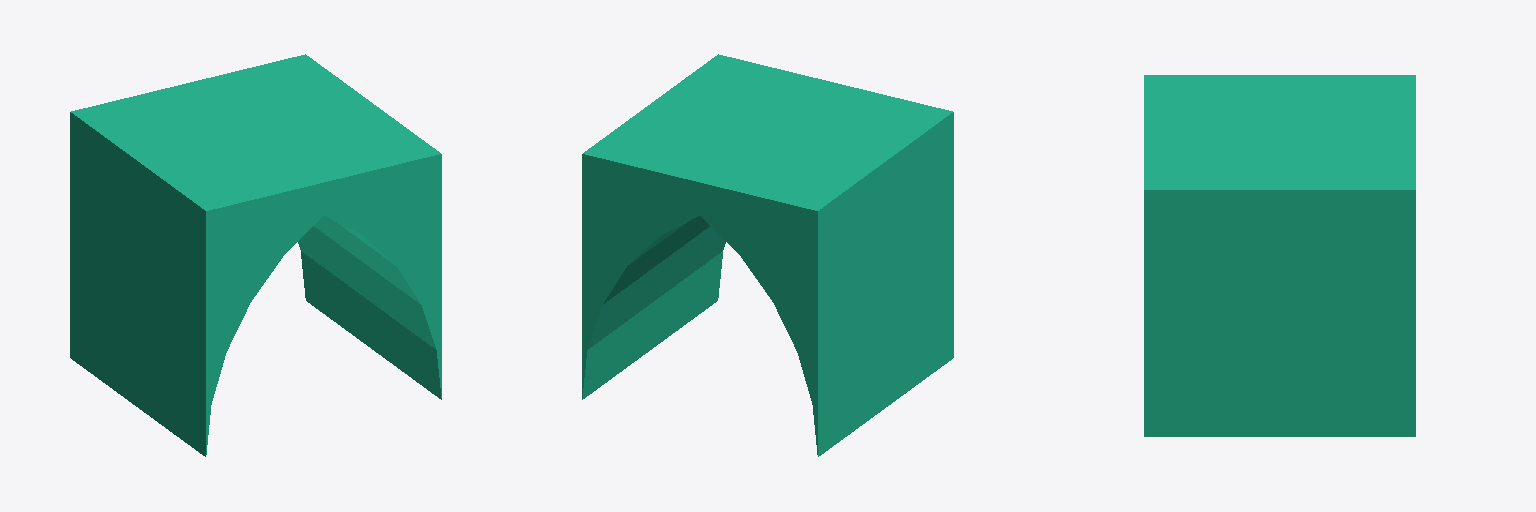
3 renders of one model, left to right at view 1: azimuth 30°, elevation 25°; view 2: azimuth 150°, elevation 25°; view 3: azimuth 270°, elevation 25°, orthographic.
Visible parts, largest first — view 1: 17_path7819.001; view 2: 17_path7819.001; view 3: 17_path7819.001.
Boxes of the visible parts, x1,y1,x2,y2 form: 17_path7819.001: [70, 54, 441, 456]; 17_path7819.001: [582, 54, 953, 456]; 17_path7819.001: [1144, 75, 1415, 436].
Size of the model in its own units: 1 by 1 by 1.